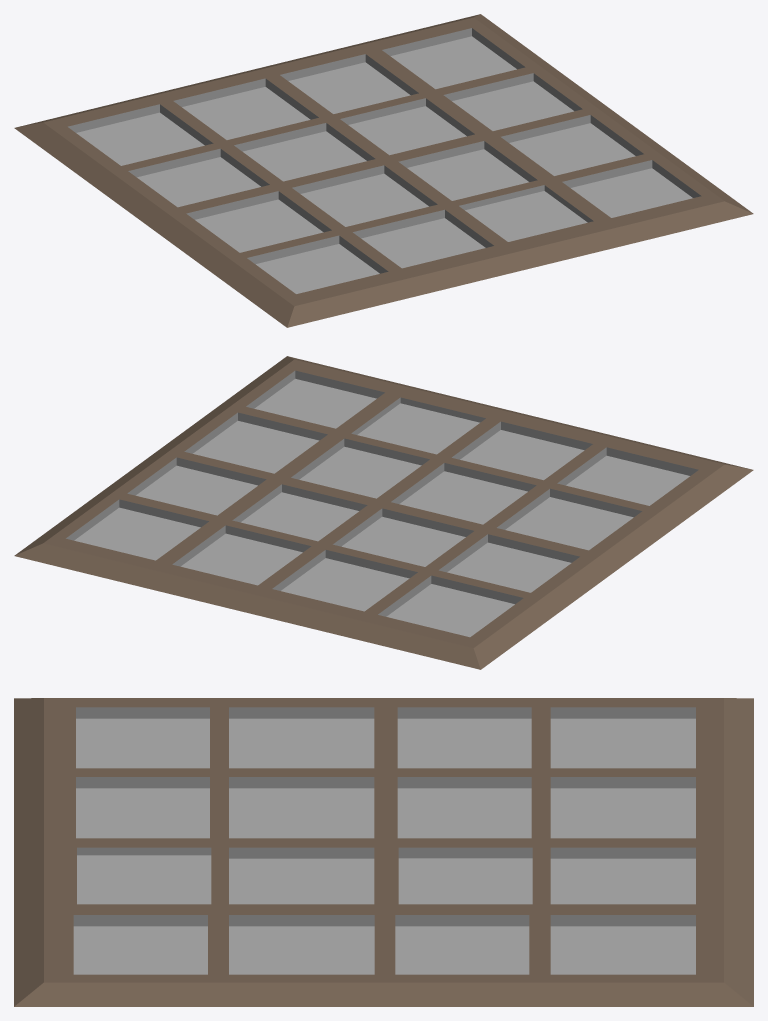
File: Main Board 4X4.fbx
3 views of the same model, one above another, from view 1: azimuth 30°, elevation 25°; view 2: azimuth 150°, elevation 25°; view 3: azimuth 270°, elevation 25° (orthographic). The views are drawn at different scales.
Parts seen in each view (by area): view 1: Main_Playing_field_4X4; view 2: Main_Playing_field_4X4; view 3: Main_Playing_field_4X4.
Boxes of the visible parts, x1,y1,x2,y2 form: Main_Playing_field_4X4: [14, 14, 753, 327]; Main_Playing_field_4X4: [14, 356, 753, 669]; Main_Playing_field_4X4: [14, 698, 753, 1006].
Size of the model in its own units: 53.74 by 1 by 54.45.
